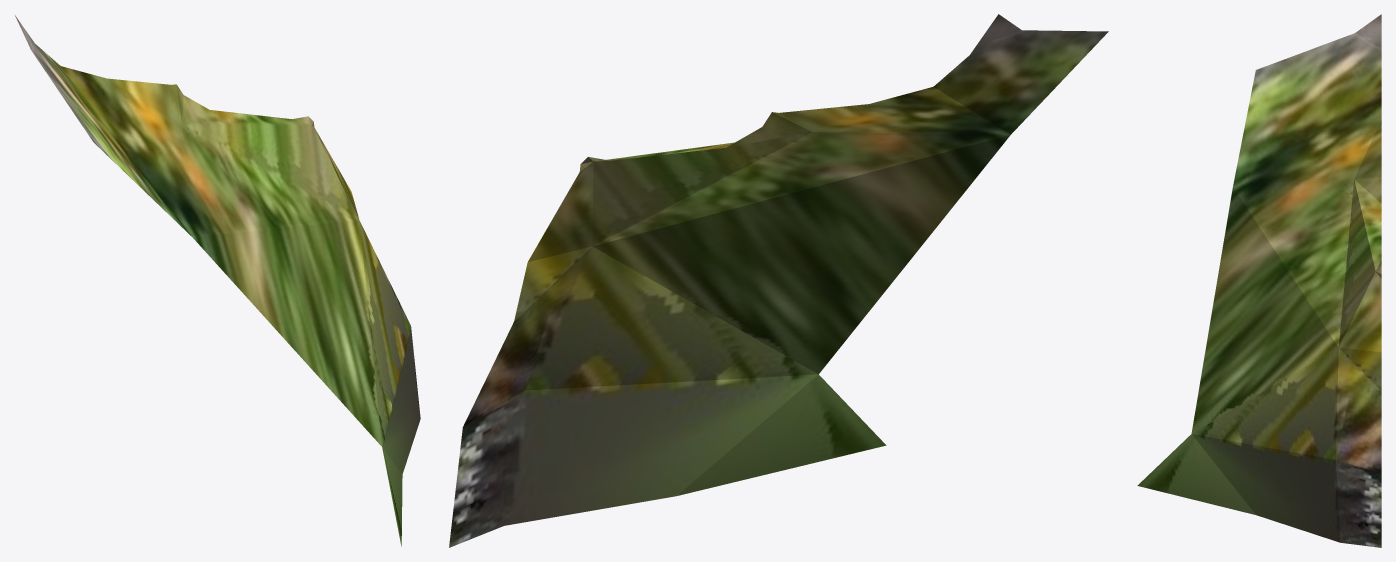
3 renders of one model, left to right at view 1: azimuth 30°, elevation 25°; view 2: azimuth 150°, elevation 25°; view 3: azimuth 270°, elevation 25°, orthographic. The views are drawn at different scales.
Size of the model in its own units: 0.9658 by 1.12 by 0.6525.
1 material, 1 textured.
